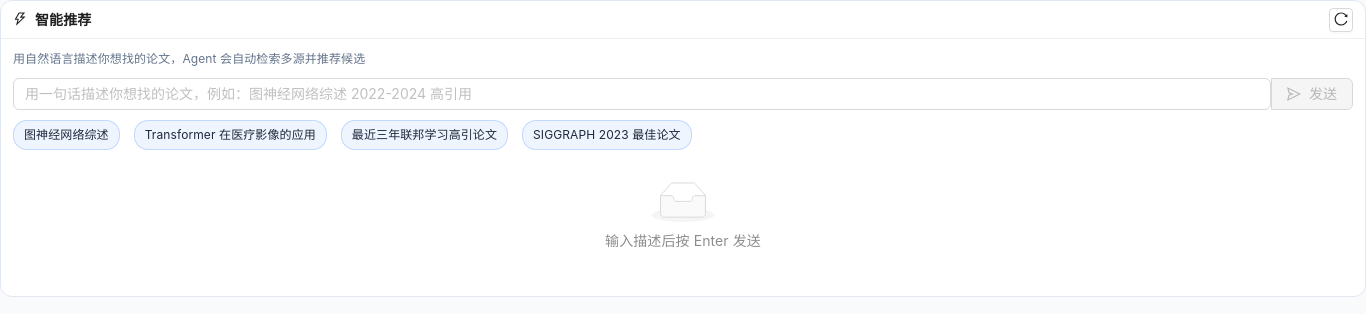
Test: SmartSearchPanel › fills the textarea when an example chip is clicked
The width and height of the screenshot is (1366, 314).
What coordinates should you click on to do the following:
click the text with test id "smart-search-example-chip" showing "图神经网络综述"
I would click on:
 (66, 135)
Its box is x1=13 y1=120 x2=120 y2=150.
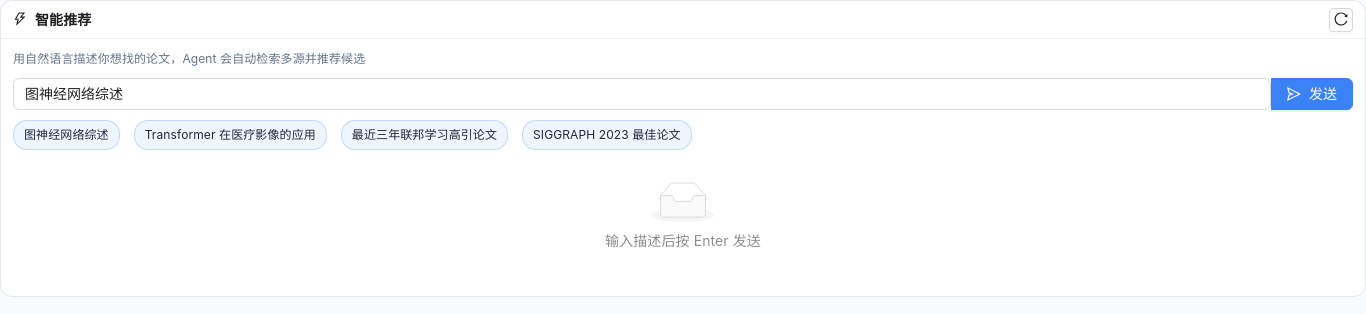
Now the text box with placeholder "用一句话描述你想找的论文，例如：图神经网络综述 2022-2024 高引用" holds "图神经网络综述", box x1=13 y1=78 x2=1271 y2=110
